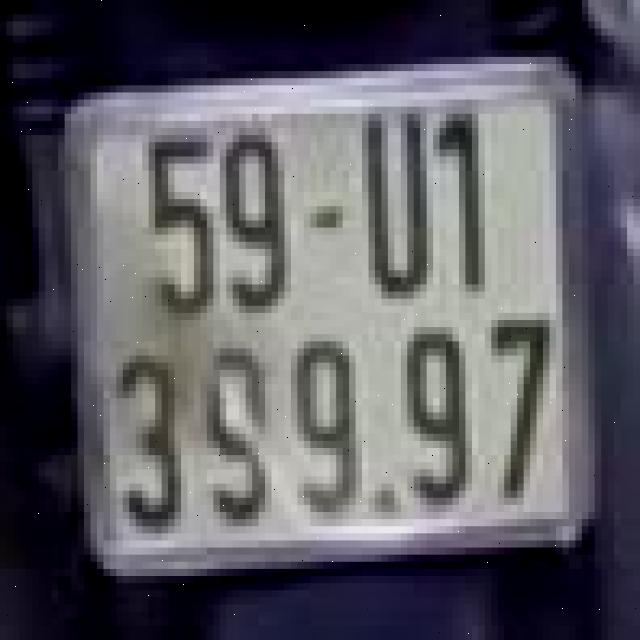1: (436, 103, 501, 302)
3: (94, 342, 190, 540)
5: (126, 121, 223, 327)
7: (485, 309, 562, 523)
9: (391, 323, 475, 522), (220, 118, 297, 324), (288, 330, 365, 522), (203, 338, 274, 530)
U: (343, 92, 433, 306)
